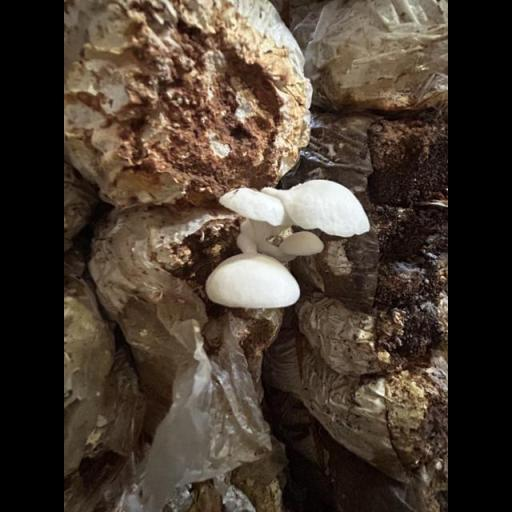White Oyster Mushroom: (201, 169, 375, 318)
